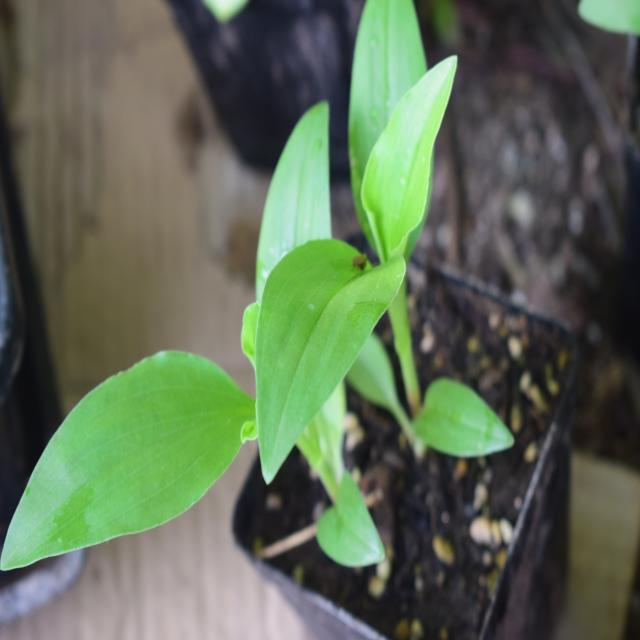Common Dayflower: (248, 19, 521, 531), (14, 351, 254, 572)
